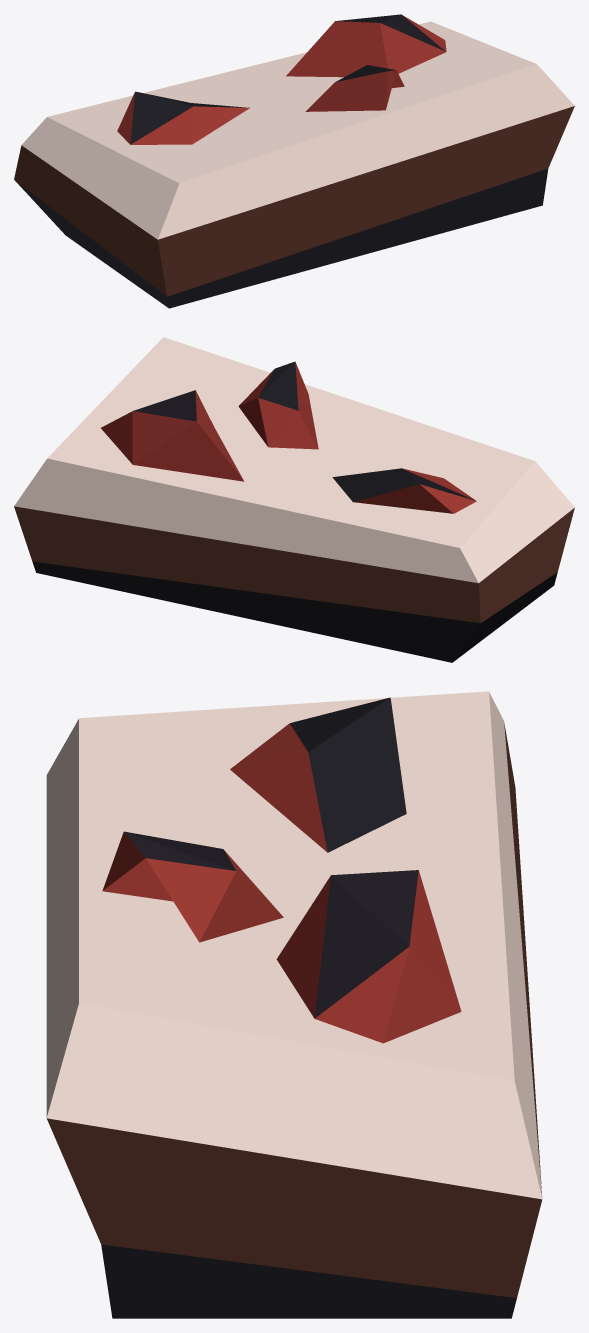
File: DryChristmasCake.fbx
3 renders of one model, top to bottom at view 1: azimuth 30°, elevation 25°; view 2: azimuth 150°, elevation 25°; view 3: azimuth 270°, elevation 25°, orthographic. The views are drawn at different scales.
Parts seen in each view (by area): view 1: Dry Christmas Cake; view 2: Dry Christmas Cake; view 3: Dry Christmas Cake.
Part boxes in pixels (x1,y1,x2,y2): Dry Christmas Cake: (14,14,574,308); Dry Christmas Cake: (14,337,574,662); Dry Christmas Cake: (46,691,542,1318).
Bounding box in the file's own units: 72.55 × 26.45 × 35.1.
